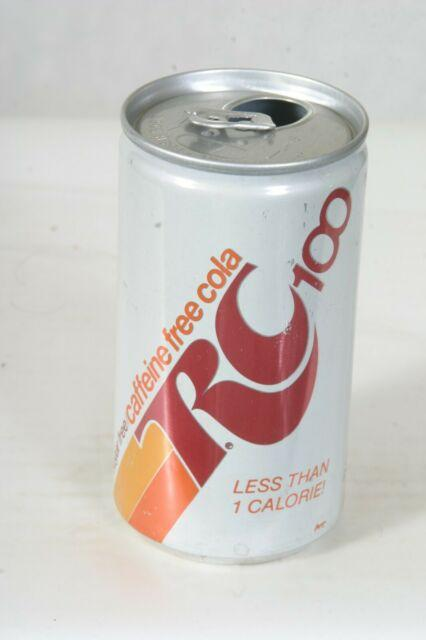can: (103, 66, 377, 566)
